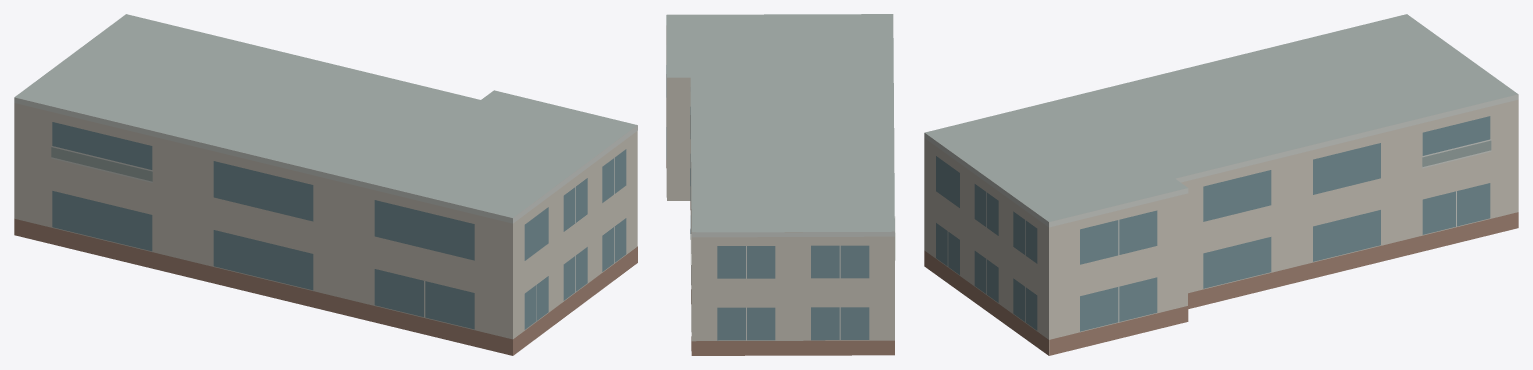
Rendered from survey-upis-33005610.glb.
3 renders of one model, left to right at view 1: azimuth 30°, elevation 25°; view 2: azimuth 150°, elevation 25°; view 3: azimuth 270°, elevation 25°, orthographic. The views are drawn at different scales.
Visible parts, largest first — view 1: survey-upis-33005610.tmp; view 2: survey-upis-33005610.tmp; view 3: survey-upis-33005610.tmp.
Part boxes in pixels (left/top/right/bottom): survey-upis-33005610.tmp: left=14, top=14, right=637, bottom=355; survey-upis-33005610.tmp: left=666, top=14, right=895, bottom=355; survey-upis-33005610.tmp: left=924, top=14, right=1518, bottom=355.
Size of the model in its own units: 20.36 by 6.1 by 24.56.
